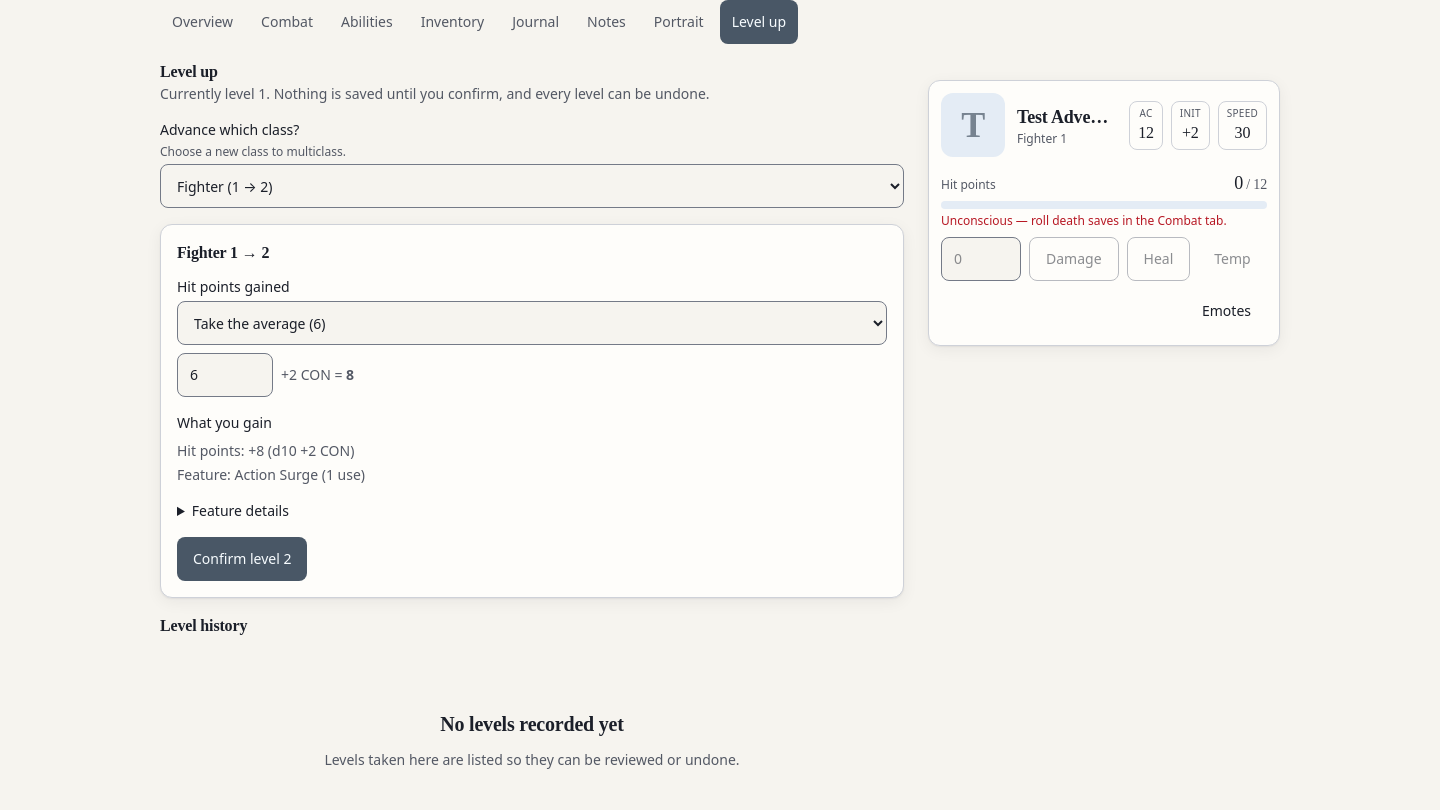
Test case: committing a level › writes the level, the hit points and an undoable record
Expected: the heading "Fighter 1 → 2" is shown, [177, 244, 269, 261]
Click the button "Confirm level 2" at (242, 559), box [177, 537, 307, 581]
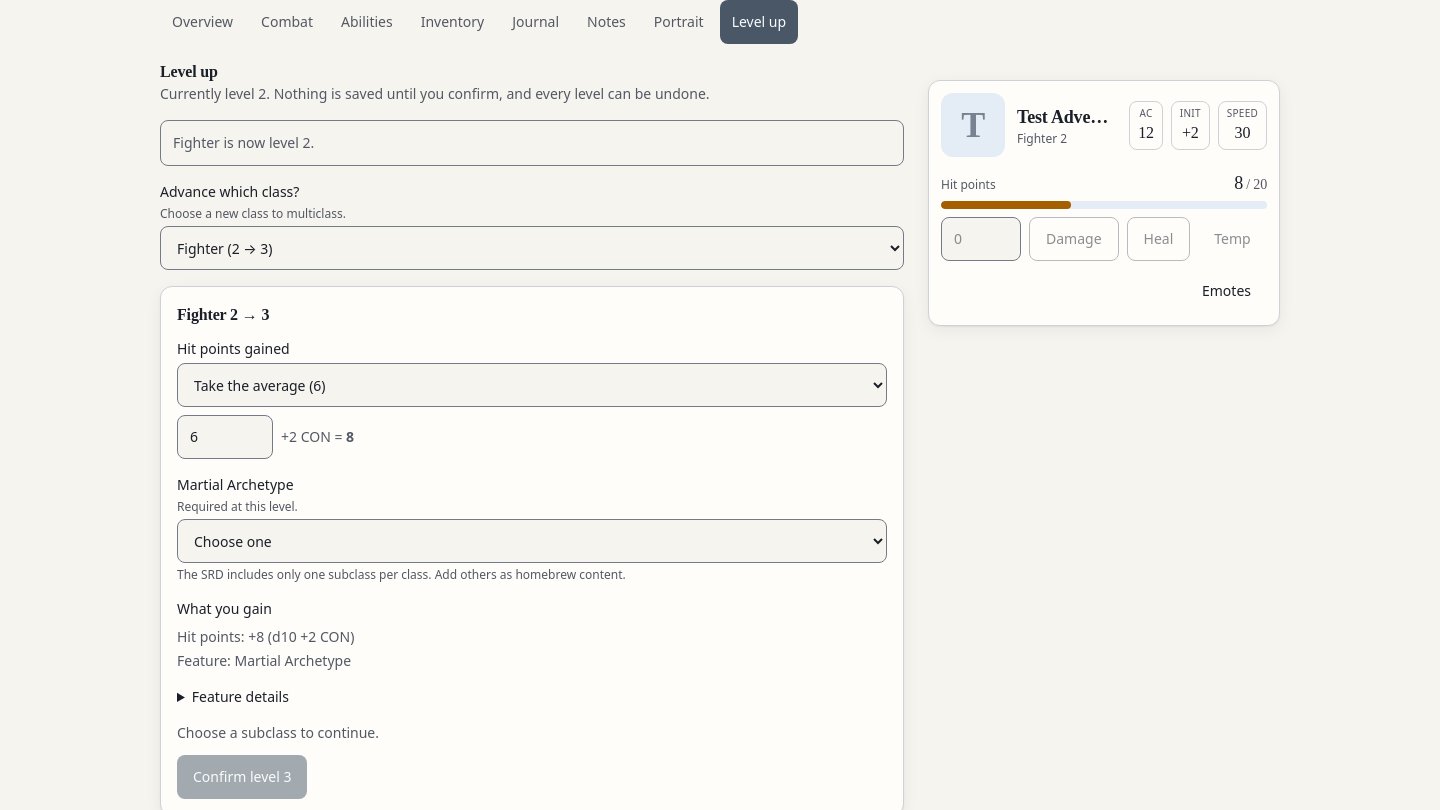
Now the text "Fighter is now level 2." is shown, box [160, 120, 904, 166]
Now the heading "Fighter 2 → 3" is shown, box [177, 306, 269, 323]
